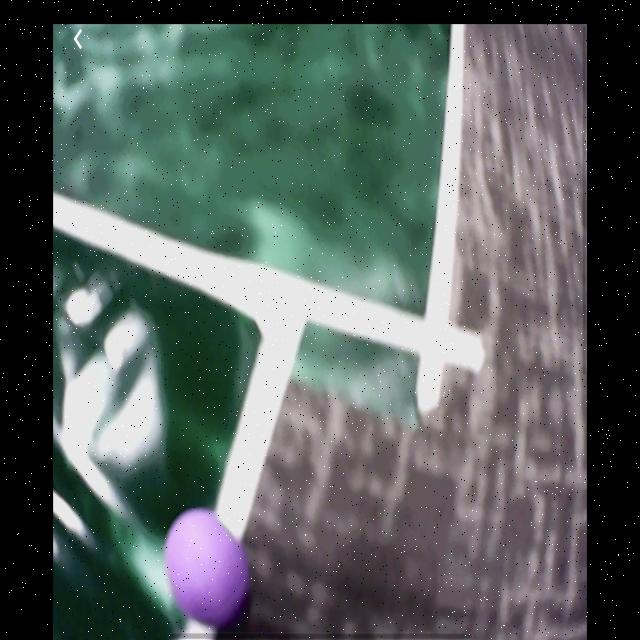ball: (162, 506, 250, 628)
